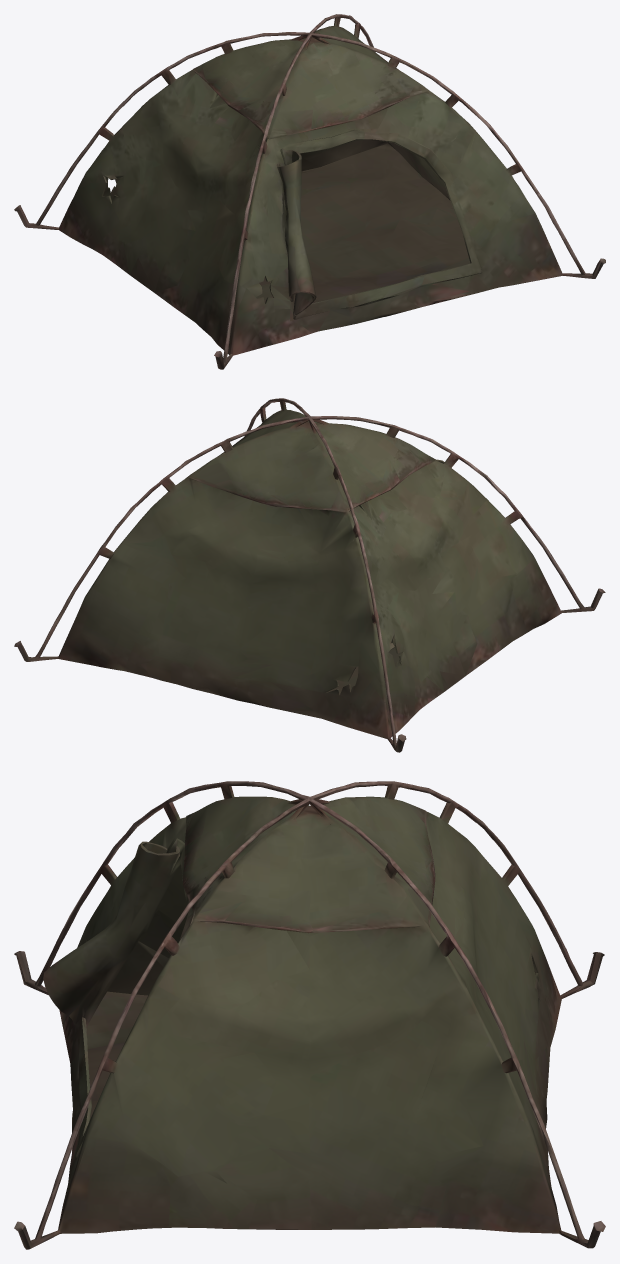
File: tent_dome_idle.glb
The picture shows the model from 3 angles, top to bottom: view 1: azimuth 30°, elevation 25°; view 2: azimuth 150°, elevation 25°; view 3: azimuth 270°, elevation 25°; orthographic projection. The views are drawn at different scales.
Visible parts, largest first — view 1: tripo_node_bf20db5e-7aae-4b04-a682-7a420170e913; view 2: tripo_node_bf20db5e-7aae-4b04-a682-7a420170e913; view 3: tripo_node_bf20db5e-7aae-4b04-a682-7a420170e913.
Boxes of the visible parts, x1,y1,x2,y2 form: tripo_node_bf20db5e-7aae-4b04-a682-7a420170e913: (14,14,605,369); tripo_node_bf20db5e-7aae-4b04-a682-7a420170e913: (14,398,605,752); tripo_node_bf20db5e-7aae-4b04-a682-7a420170e913: (14,781,605,1249).
Size of the model in its own units: 2.4 by 1.3 by 2.16.
1 material, 1 textured.
